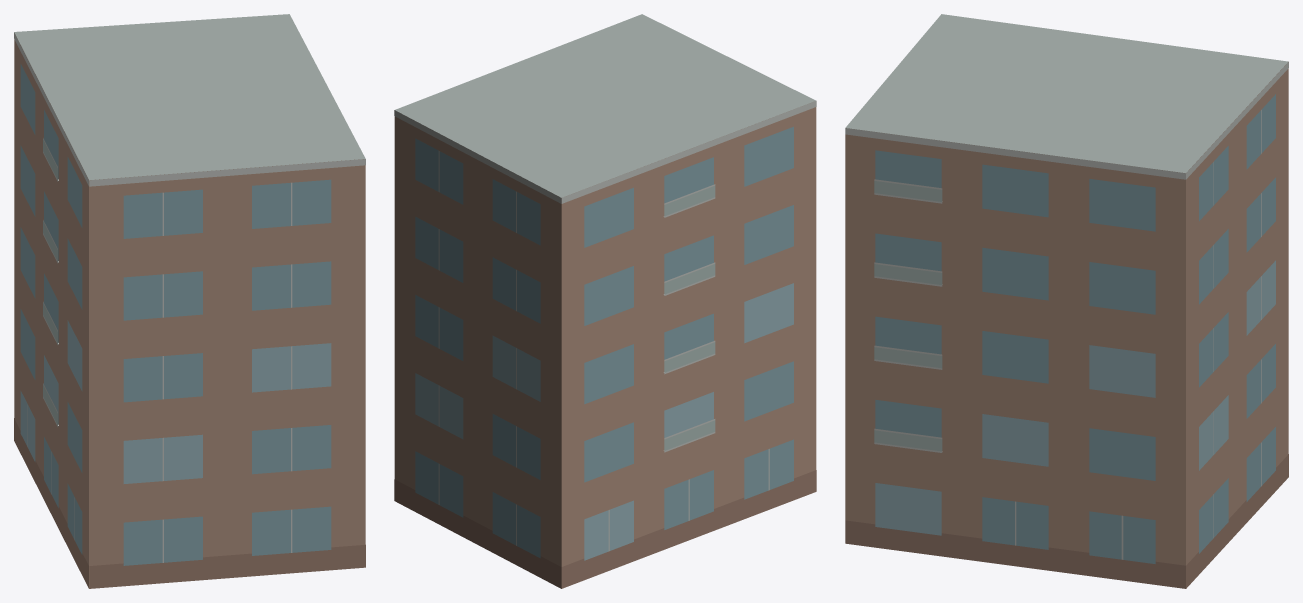
Rendered from survey-upis-32941956.glb.
3 renders of one model, left to right at view 1: azimuth 30°, elevation 25°; view 2: azimuth 150°, elevation 25°; view 3: azimuth 270°, elevation 25°, orthographic. The views are drawn at different scales.
Visible parts, largest first — view 1: survey-upis-32941956.tmp; view 2: survey-upis-32941956.tmp; view 3: survey-upis-32941956.tmp.
Part boxes in pixels (x1,y1,x2,y2): survey-upis-32941956.tmp: [14, 14, 365, 588]; survey-upis-32941956.tmp: [394, 14, 816, 588]; survey-upis-32941956.tmp: [845, 14, 1288, 588].
Bounding box in the file's own units: 12.7 × 15.45 × 14.95.
